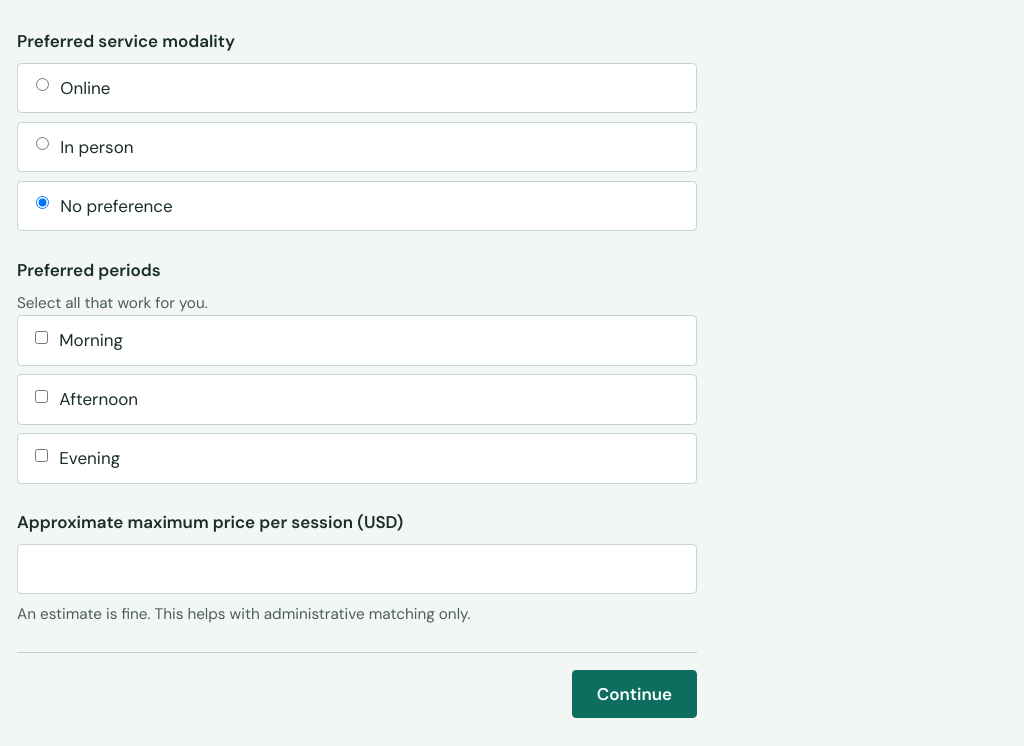
IntakePage › blocks progression and shows accessible validation messages
(page scrolled)
Click the button "Continue": (634, 694) top-left (572, 670), bottom-right (697, 718)
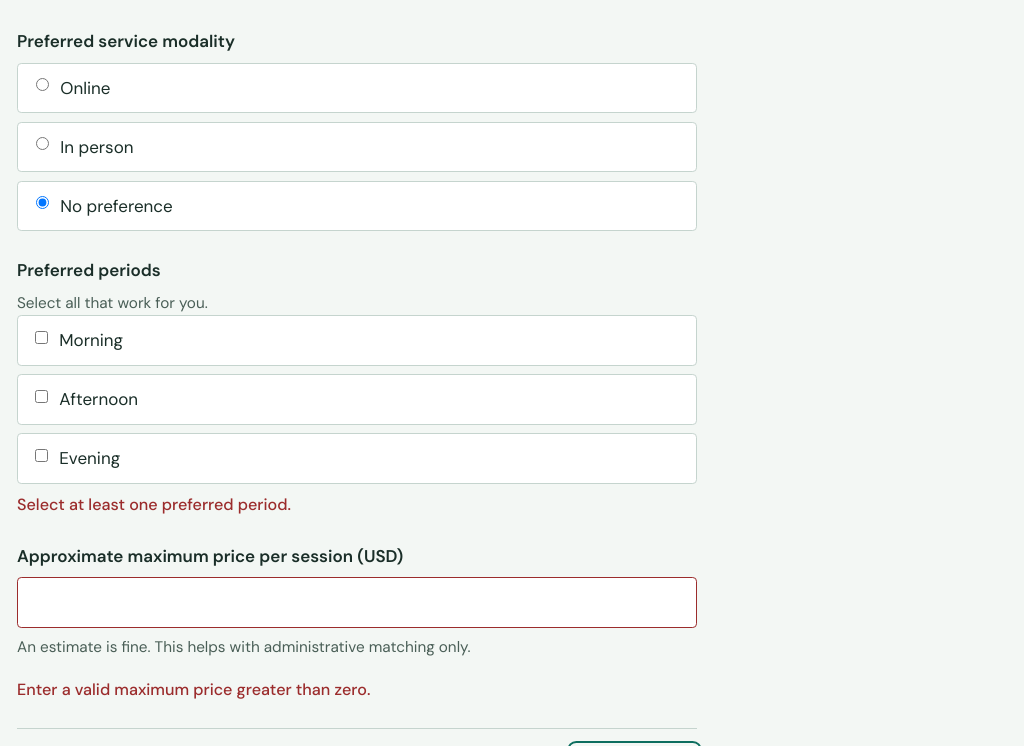
Now the text "Select at least one preferred period." is shown, box top-left (17, 494), bottom-right (291, 515)
Now the text "Enter a valid maximum price greater than zero." is shown, box top-left (17, 679), bottom-right (370, 700)
